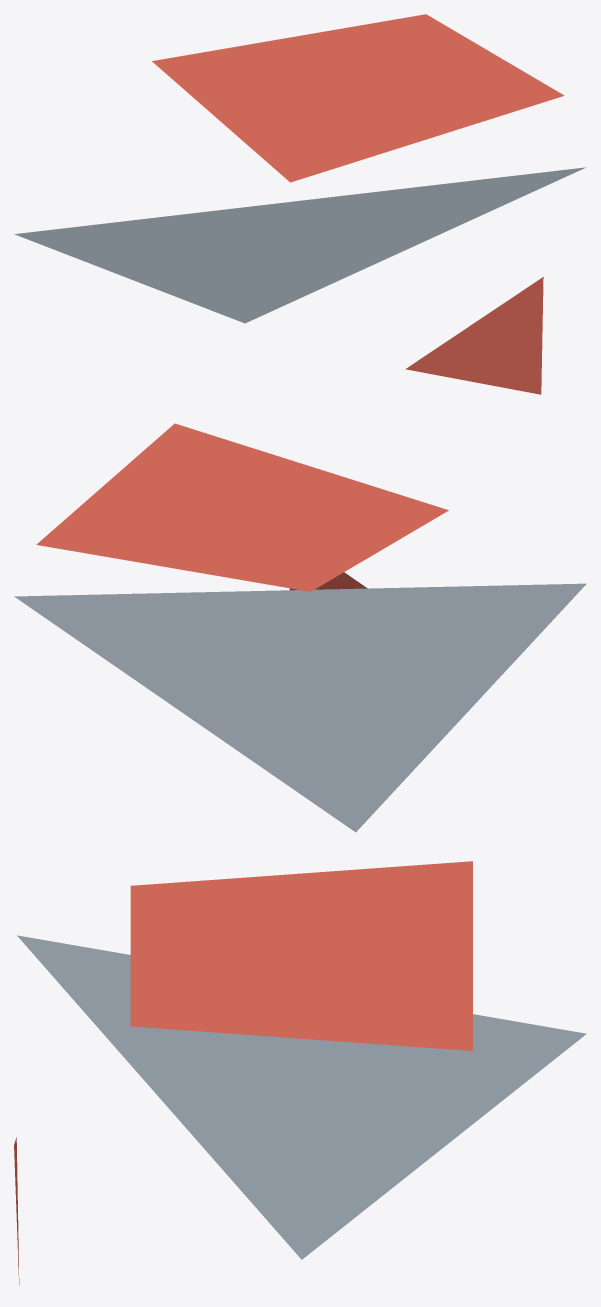
The model's file is SU_MCV_MobileYard_LOD2.glb.
3 renders of one model, top to bottom at view 1: azimuth 30°, elevation 25°; view 2: azimuth 150°, elevation 25°; view 3: azimuth 270°, elevation 25°, orthographic. The views are drawn at different scales.
Parts seen in each view (by area): view 1: EntranceGate; view 2: EntranceGate; view 3: EntranceGate.
Part boxes in pixels (x1,y1,x2,y2): EntranceGate: (14, 14, 585, 394); EntranceGate: (14, 423, 586, 832); EntranceGate: (14, 861, 586, 1285).
Size of the model in its own units: 800 by 417 by 703.
